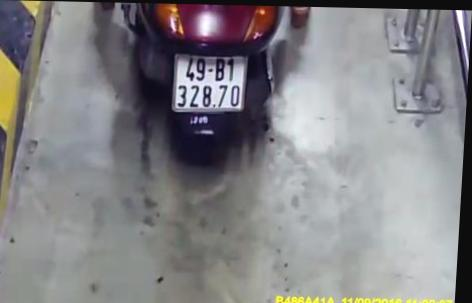License_Plate: (159, 45, 254, 119)
